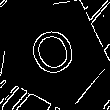O_SE: (22, 20, 83, 84)
